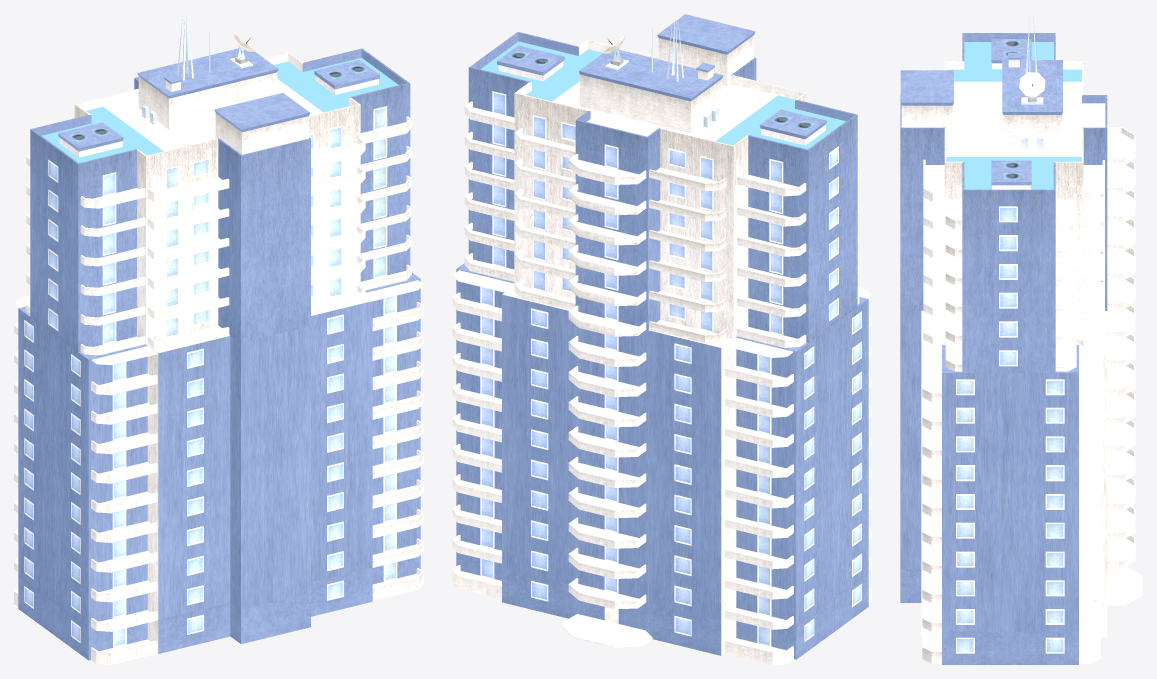
Rendered from ORB_8_16S_Detail_2.fbx.
3 views of the same model, side by side, from view 1: azimuth 30°, elevation 25°; view 2: azimuth 150°, elevation 25°; view 3: azimuth 270°, elevation 25° (orthographic). The views are drawn at different scales.
Visible parts, largest first — view 1: ORB_8_16S_Detail_2; view 2: ORB_8_16S_Detail_2; view 3: ORB_8_16S_Detail_2.
Boxes of the visible parts, x1=… form: ORB_8_16S_Detail_2: x1=14, y1=17, x2=423, y2=664; ORB_8_16S_Detail_2: x1=452, y1=14, x2=871, y2=664; ORB_8_16S_Detail_2: x1=900, y1=16, x2=1142, y2=664.
Size of the model in its own units: 3016 by 4986 by 1951.
